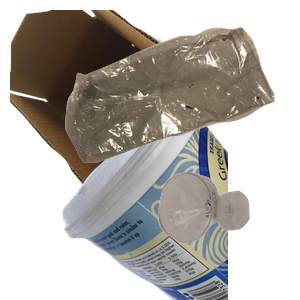cardboard: (10, 10, 218, 190)
glass: (156, 170, 300, 300)
plastic: (60, 120, 300, 300)
trash: (63, 24, 300, 179)
